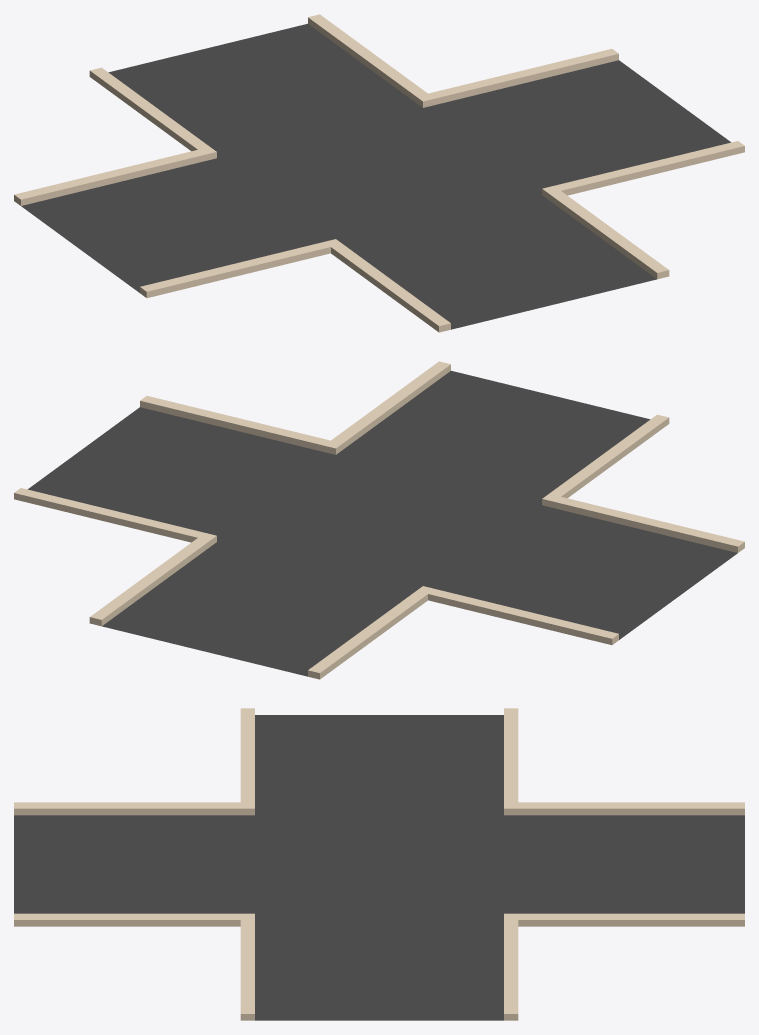
File: Way_Mid_3.fbx
The picture shows the model from 3 angles, top to bottom: view 1: azimuth 30°, elevation 25°; view 2: azimuth 150°, elevation 25°; view 3: azimuth 270°, elevation 25°; orthographic projection. The views are drawn at different scales.
Visible parts, largest first — view 1: Way_Mid_3; view 2: Way_Mid_3; view 3: Way_Mid_3.
Part boxes in pixels (box(x1,y1,x2,y2)): Way_Mid_3: box(14, 14, 744, 332); Way_Mid_3: box(14, 361, 744, 679); Way_Mid_3: box(14, 708, 744, 1020).
Bounding box in the file's own units: 1500 × 15.4 × 1517.
